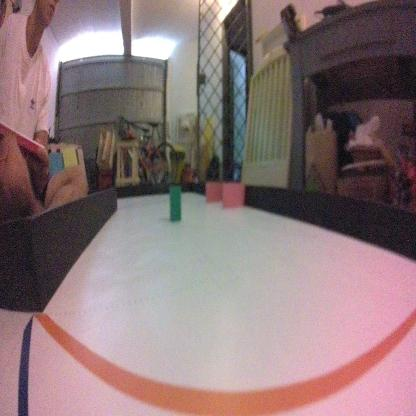green: (168, 186, 182, 222)
magenta: (218, 179, 245, 217), (205, 177, 224, 205)
